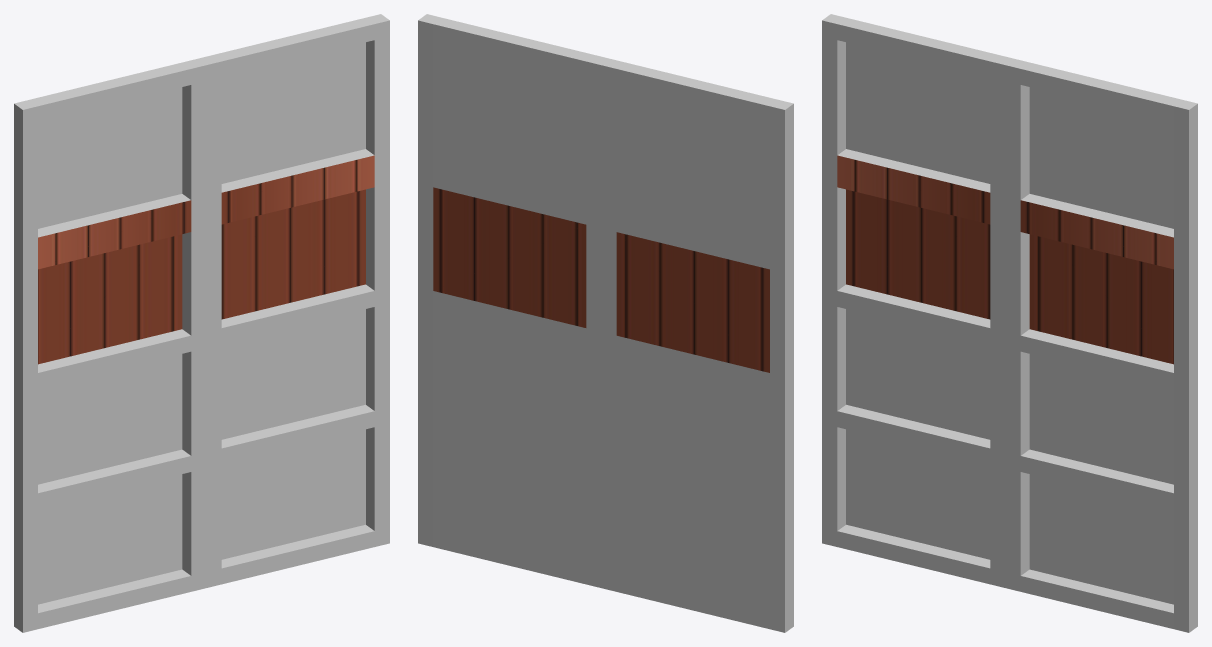
Rendered from prozor2.b6bd3bc5.glb.
3 views of the same model, side by side, from view 1: azimuth 30°, elevation 25°; view 2: azimuth 150°, elevation 25°; view 3: azimuth 330°, elevation 25° (orthographic).
Visible parts, largest first — view 1: Cube; view 2: Cube; view 3: Cube.
Boxes of the visible parts, x1,y1,x2,y2 form: Cube: (14,14,389,632); Cube: (418,14,793,632); Cube: (822,14,1197,632).
Size of the model in its own units: 48.04 by 65.4 by 2.01.
2 materials, 1 textured.
